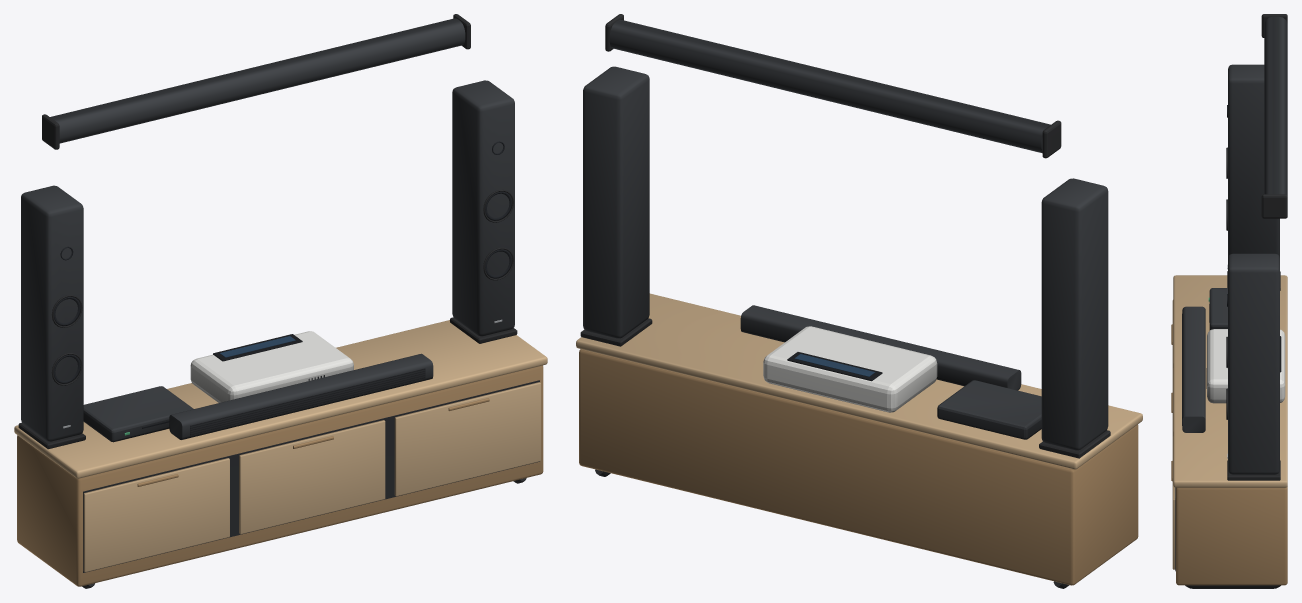
The model's file is homeCinema.glb.
3 renders of one model, left to right at view 1: azimuth 30°, elevation 25°; view 2: azimuth 150°, elevation 25°; view 3: azimuth 270°, elevation 25°, orthographic. The views are drawn at different scales.
Visible parts, largest first — view 1: homeCinema; view 2: homeCinema; view 3: homeCinema.
Part boxes in pixels (x1,y1,x2,y2): homeCinema: (14,14,547,588); homeCinema: (576,14,1142,588); homeCinema: (1171,14,1287,588).
Size of the model in its own units: 1.88 by 1.65 by 0.448.
